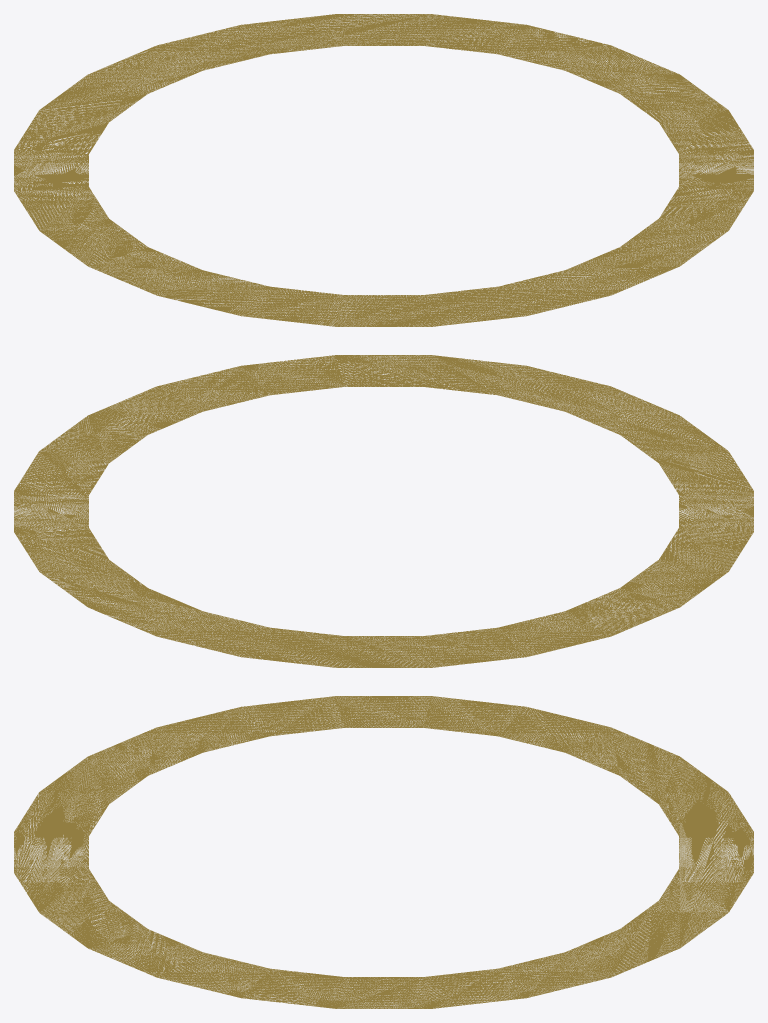
File: original-40.obj
3 renders of one model, top to bottom at view 1: azimuth 30°, elevation 25°; view 2: azimuth 150°, elevation 25°; view 3: azimuth 270°, elevation 25°, orthographic.
Visible parts, largest first — view 1: 3dw.47c68395a5775e10d9deb3f829cc2475/Model/Component_18_1/Compon; view 2: 3dw.47c68395a5775e10d9deb3f829cc2475/Model/Component_18_1/Compon; view 3: 3dw.47c68395a5775e10d9deb3f829cc2475/Model/Component_18_1/Compon.
Boxes of the visible parts, bbox=[...] form: 3dw.47c68395a5775e10d9deb3f829cc2475/Model/Component_18_1/Compon: bbox=[14, 14, 753, 326]; 3dw.47c68395a5775e10d9deb3f829cc2475/Model/Component_18_1/Compon: bbox=[14, 355, 753, 667]; 3dw.47c68395a5775e10d9deb3f829cc2475/Model/Component_18_1/Compon: bbox=[14, 696, 753, 1008].
Bounding box in the file's own units: 0.1159 × 0 × 0.1159.
